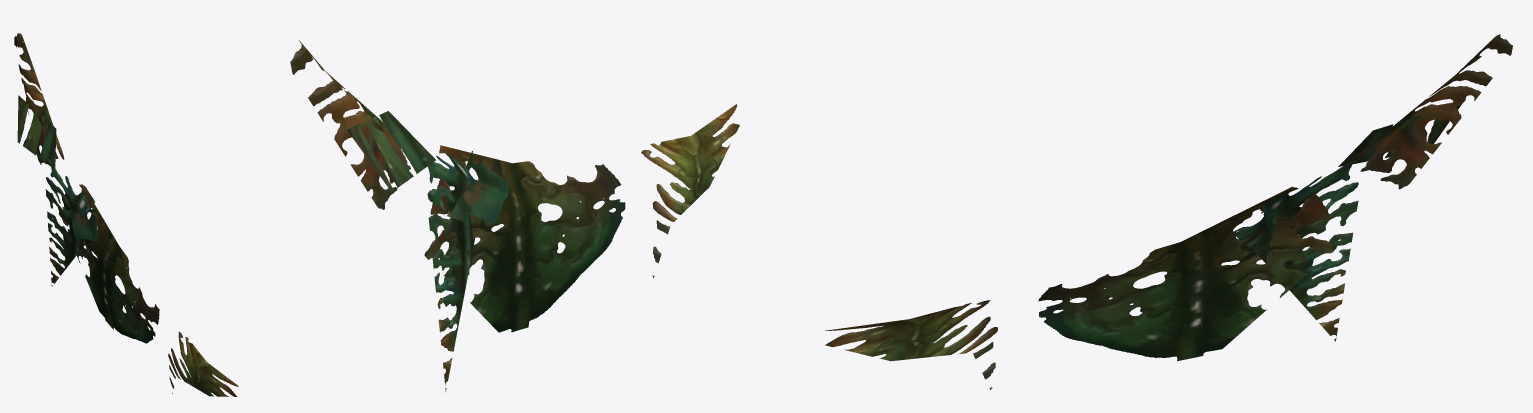
Rendered from stemple_vinehall_transition_01.fbx.
The picture shows the model from 3 angles, left to right: view 1: azimuth 30°, elevation 25°; view 2: azimuth 150°, elevation 25°; view 3: azimuth 270°, elevation 25°; orthographic projection. The views are drawn at different scales.
Parts seen in each view (by area): view 1: sunken_tileset/sunken_plants01_mat; view 2: sunken_tileset/sunken_plants01_mat; view 3: sunken_tileset/sunken_plants01_mat.
Part boxes in pixels (bbox=[...]): sunken_tileset/sunken_plants01_mat: bbox=[14, 33, 238, 396]; sunken_tileset/sunken_plants01_mat: bbox=[290, 39, 739, 392]; sunken_tileset/sunken_plants01_mat: bbox=[825, 34, 1512, 389].
Size of the model in its own units: 0.7865 by 6.9 by 11.6.
